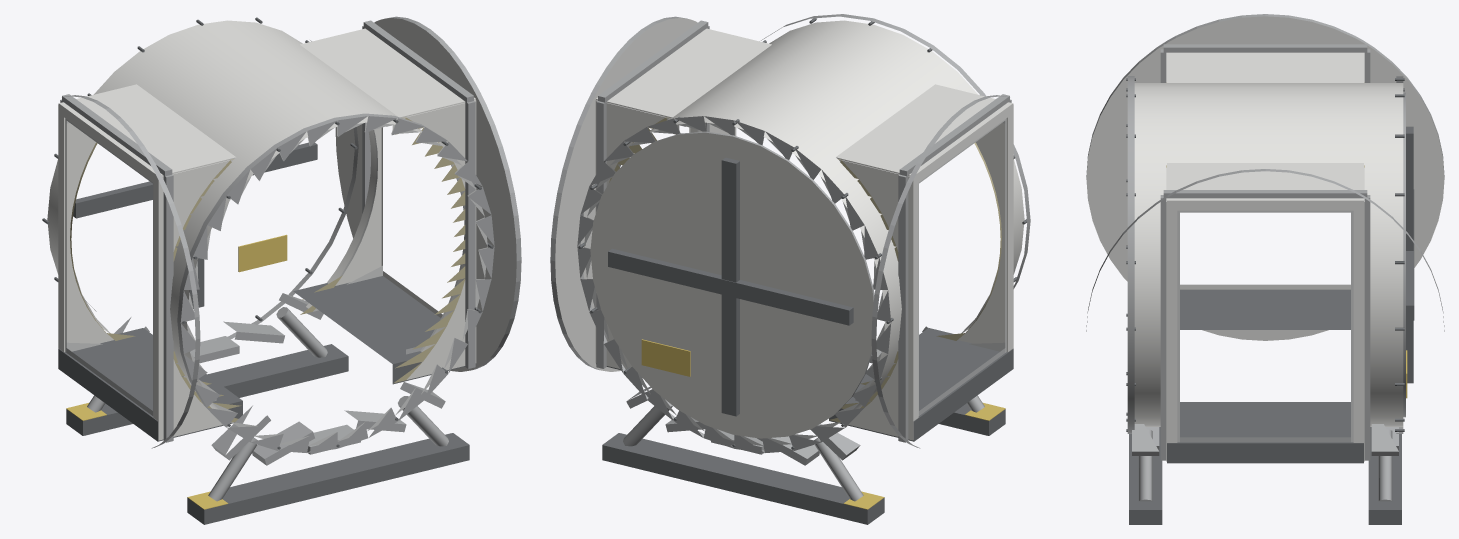
Rendered from habSegJLRb_steel.glb.
3 views of the same model, side by side, from view 1: azimuth 30°, elevation 25°; view 2: azimuth 150°, elevation 25°; view 3: azimuth 270°, elevation 25° (orthographic).
Visible parts, largest first — view 1: habSegJLRb_steel; view 2: habSegJLRb_steel; view 3: habSegJLRb_steel.
Boxes of the visible parts, x1,y1,x2,y2 form: habSegJLRb_steel: [42, 16, 521, 524]; habSegJLRb_steel: [550, 14, 1030, 524]; habSegJLRb_steel: [1086, 14, 1444, 524].
Size of the model in its own units: 2.7 by 2.95 by 2.6.
